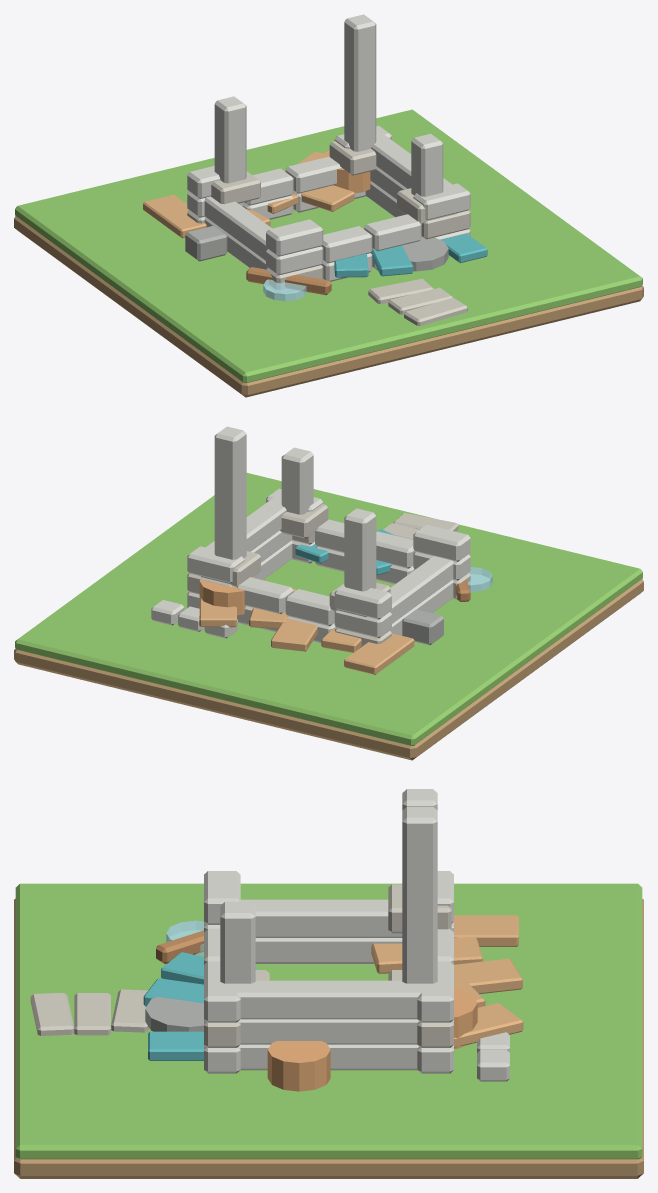
Rendered from tower_l06_ruined_LOD0.glb.
3 views of the same model, one above another, from view 1: azimuth 30°, elevation 25°; view 2: azimuth 150°, elevation 25°; view 3: azimuth 270°, elevation 25° (orthographic). The views are drawn at different scales.
Parts seen in each view (by area): view 1: tower_l06_grass_tile, tower_l06_earth_tile, snapped_upright_0.58_0.52, snapped_upright_-0.58_0.52, ruin_stone_return_1_-0.72, snapped_upright_0.58_-0.52, ruin_stone_course_2_-1_0, ruin_stone_course_1_-1_2, ruin_stone_return_2_0.72, collapsed_deck_0, ruin_stone_course_1_-1_1, ruin_stone_course_1_1_2 (+23 smaller); view 2: tower_l06_grass_tile, tower_l06_earth_tile, snapped_upright_0.58_0.52, snapped_upright_-0.58_0.52, ruin_stone_return_1_-0.72, snapped_upright_0.58_-0.52, collapsed_deck_0, ruin_stone_course_2_-1_0, ruin_stone_course_2_1_0, ruin_stone_return_2_0.72, ruin_stone_course_1_1_2, ruin_stone_course_1_1_1 (+19 smaller); view 3: tower_l06_grass_tile, tower_l06_earth_tile, ruin_stone_return_2_0.72, snapped_upright_0.58_0.52, ruin_stone_return_1_-0.72, ruin_stone_return_1_0.72, ruin_stone_return_0_-0.72, ruin_stone_return_0_0.72, fallen_bell, snapped_upright_0.58_-0.52, collapsed_deck_0, broken_beacon_crown (+25 smaller).
Boxes of the visible parts, <box> form: tower_l06_grass_tile: <box>15,109,642,383</box>; tower_l06_earth_tile: <box>14,216,643,397</box>; snapped_upright_0.58_0.52: <box>344,14,376,151</box>; snapped_upright_-0.58_0.52: <box>214,96,246,183</box>; ruin_stone_return_1_-0.72: <box>204,196,271,260</box>; snapped_upright_0.58_-0.52: <box>411,133,443,196</box>; ruin_stone_course_2_-1_0: <box>266,219,323,256</box>; ruin_stone_course_1_-1_2: <box>364,214,421,251</box>; ruin_stone_return_2_0.72: <box>371,134,451,188</box>; collapsed_deck_0: <box>143,194,206,238</box>; ruin_stone_course_1_-1_1: <box>321,226,372,263</box>; ruin_stone_course_1_1_2: <box>285,156,341,193</box>; tower_l06_grass_tile: <box>15,473,642,745</box>; tower_l06_earth_tile: <box>14,579,643,760</box>; snapped_upright_0.58_0.52: <box>214,426,246,559</box>; snapped_upright_-0.58_0.52: <box>344,508,376,591</box>; ruin_stone_return_1_-0.72: <box>390,556,453,623</box>; snapped_upright_0.58_-0.52: <box>281,447,313,514</box>; collapsed_deck_0: <box>344,633,414,674</box>; ruin_stone_course_2_-1_0: <box>413,524,470,561</box>; ruin_stone_course_2_1_0: <box>334,585,391,619</box>; ruin_stone_return_2_0.72: <box>204,496,286,551</box>; ruin_stone_course_1_1_2: <box>236,577,293,613</box>; ruin_stone_course_1_1_1: <box>285,589,334,626</box>; tower_l06_grass_tile: <box>15,883,642,1159</box>; tower_l06_earth_tile: <box>14,899,643,1178</box>; ruin_stone_return_2_0.72: <box>236,980,421,1019</box>; snapped_upright_0.58_0.52: <box>402,806,437,983</box>; ruin_stone_return_1_-0.72: <box>240,899,402,937</box>; ruin_stone_return_1_0.72: <box>239,1019,418,1044</box>; ruin_stone_return_0_-0.72: <box>255,938,402,963</box>; ruin_stone_return_0_0.72: <box>239,1044,418,1070</box>; fallen_bell: <box>267,1041,330,1091</box>; snapped_upright_0.58_-0.52: <box>220,901,255,983</box>; collapsed_deck_0: <box>454,915,518,946</box>; broken_beacon_crown: <box>145,997,203,1031</box>.
Bounding box in the file's own units: 3.6 × 1.76 × 3.6.
